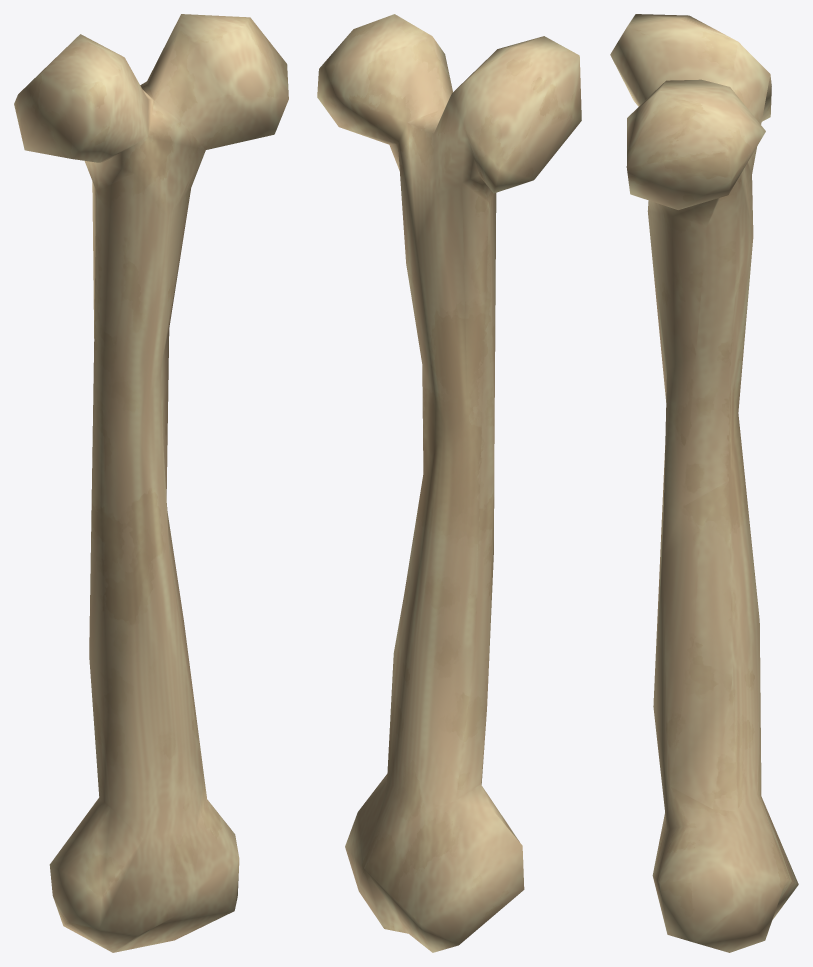
The model's file is bone.fbx.
3 renders of one model, left to right at view 1: azimuth 30°, elevation 25°; view 2: azimuth 150°, elevation 25°; view 3: azimuth 270°, elevation 25°, orthographic. The views are drawn at different scales.
Visible parts, largest first — view 1: bone_high.001; view 2: bone_high.001; view 3: bone_high.001.
Boxes of the visible parts, x1=… form: bone_high.001: x1=14, y1=14, x2=288, y2=952; bone_high.001: x1=317, y1=14, x2=581, y2=952; bone_high.001: x1=610, y1=14, x2=798, y2=952.
Bounding box in the file's own units: 16.05 × 59.49 × 11.45.
